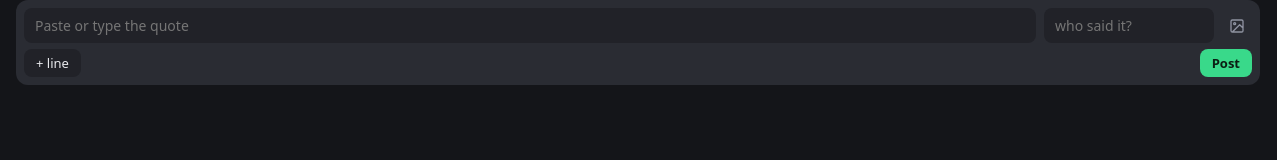
Test: QuoteComposer › won't post without a speaker and says Who said it?
Type "hello" into the text box with placeholder "Paste or type the quote". click: (530, 26)
box: [24, 8, 1036, 43]
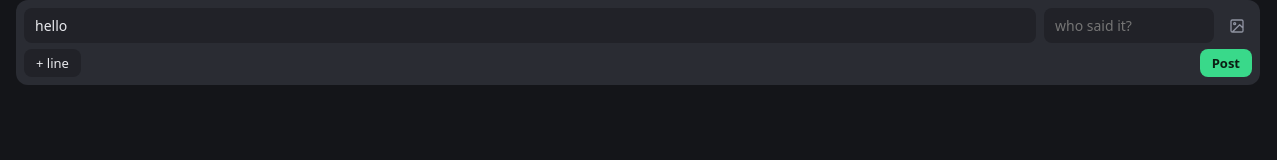
Press Enter in the text box named "Quote text", box [24, 8, 1036, 43]
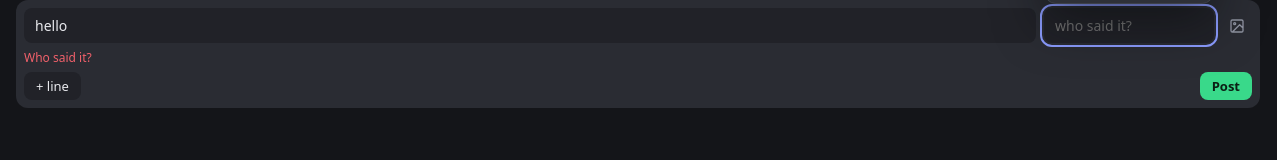
Expected: the text "Who said it?" is shown, [24, 49, 92, 66]
